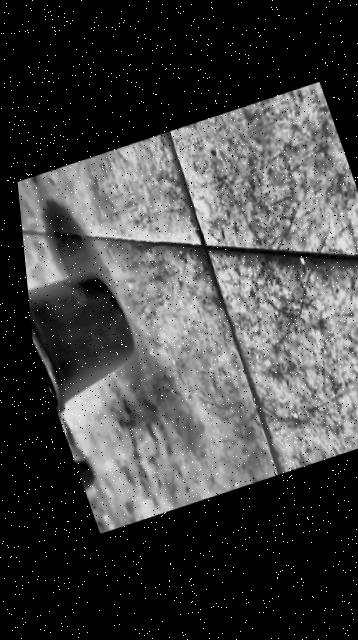pot: (25, 254, 150, 412)
